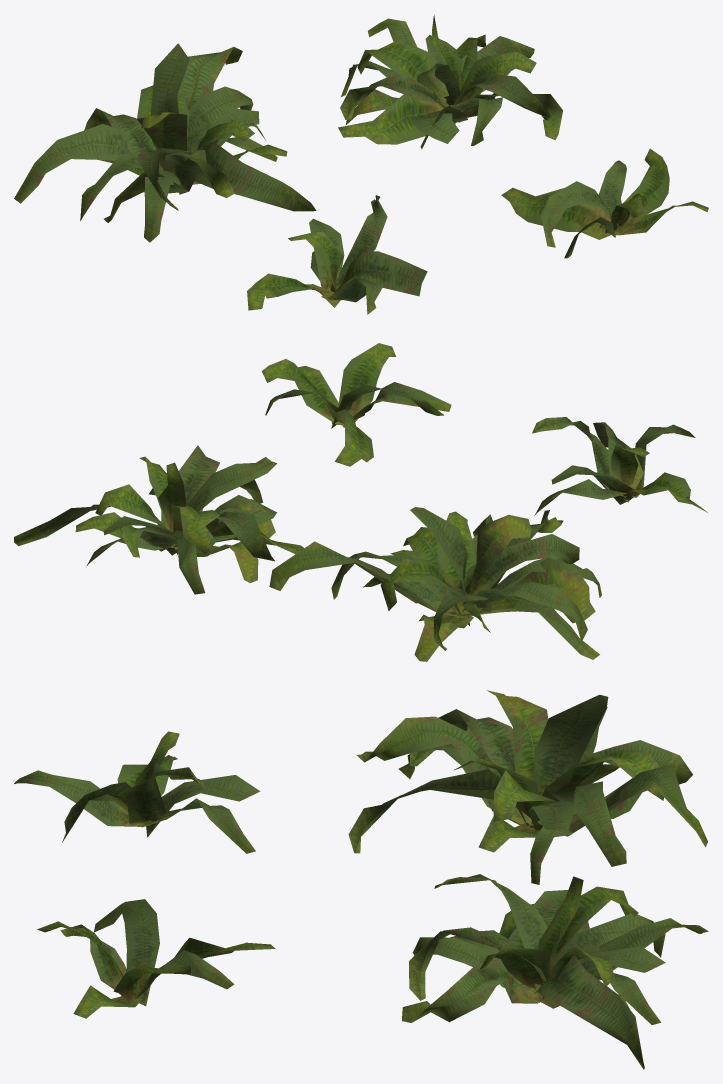
Rendered from fern_02.glb.
The picture shows the model from 3 angles, top to bottom: view 1: azimuth 30°, elevation 25°; view 2: azimuth 150°, elevation 25°; view 3: azimuth 270°, elevation 25°; orthographic projection. The views are drawn at different scales.
Visible parts, largest first — view 1: fern_02_b, fern_02_c, fern_02_d, fern_02_a; view 2: fern_02_b, fern_02_c, fern_02_d, fern_02_a; view 3: fern_02_b, fern_02_c, fern_02_a, fern_02_d.
Boxes of the visible parts, x1,y1,x2,y2 form: fern_02_b: (14, 43, 316, 242); fern_02_c: (338, 15, 562, 148); fern_02_d: (501, 148, 708, 258); fern_02_a: (247, 195, 427, 314); fern_02_b: (269, 507, 601, 661); fern_02_c: (14, 445, 303, 594); fern_02_d: (261, 343, 451, 466); fern_02_a: (532, 417, 707, 515); fern_02_b: (348, 690, 707, 884); fern_02_c: (402, 874, 708, 1069); fern_02_a: (14, 731, 260, 853); fern_02_d: (37, 899, 275, 1018).
Size of the model in its own units: 1.96 by 0.4277 by 1.71.
Materials: 1 (1 with a texture image).
